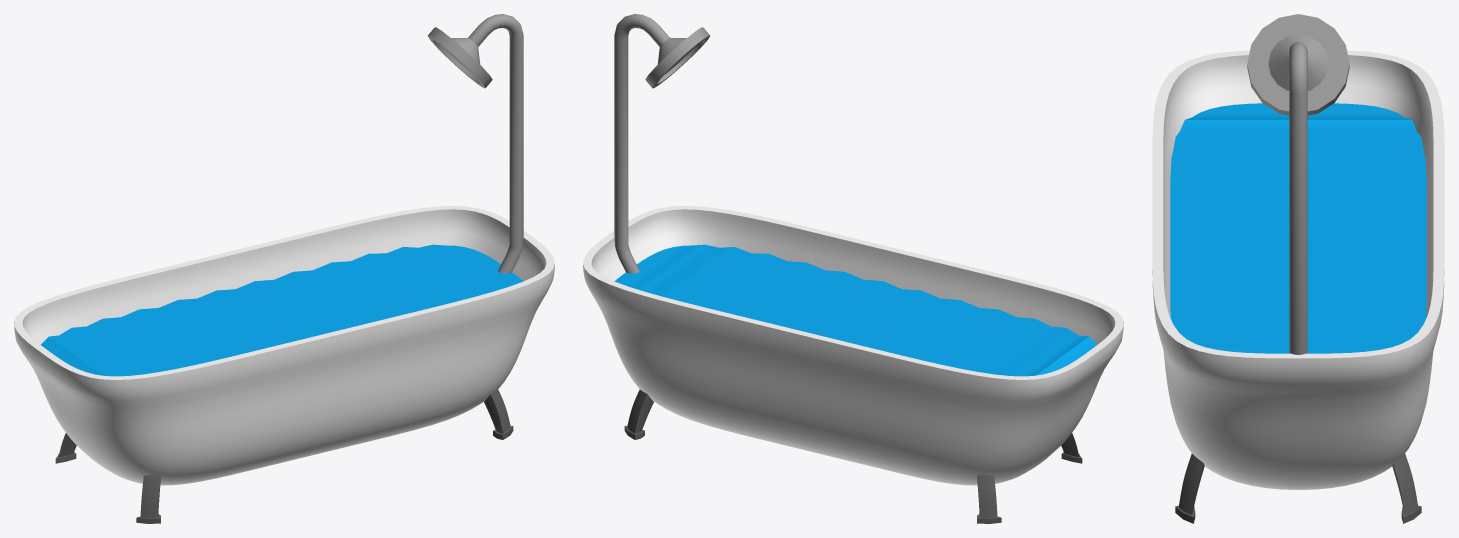
The model's file is bathtub.glb.
3 views of the same model, side by side, from view 1: azimuth 30°, elevation 25°; view 2: azimuth 150°, elevation 25°; view 3: azimuth 270°, elevation 25° (orthographic). The views are drawn at different scales.
Parts seen in each view (by area): view 1: Cube.241; view 2: Cube.241; view 3: Cube.241.
Part boxes in pixels (x1,y1,x2,y2): Cube.241: [14, 14, 554, 523]; Cube.241: [583, 14, 1123, 523]; Cube.241: [1152, 14, 1444, 523].
Bounding box in the file's own units: 2.2 × 1.64 × 0.88.
1 material, 1 textured.
